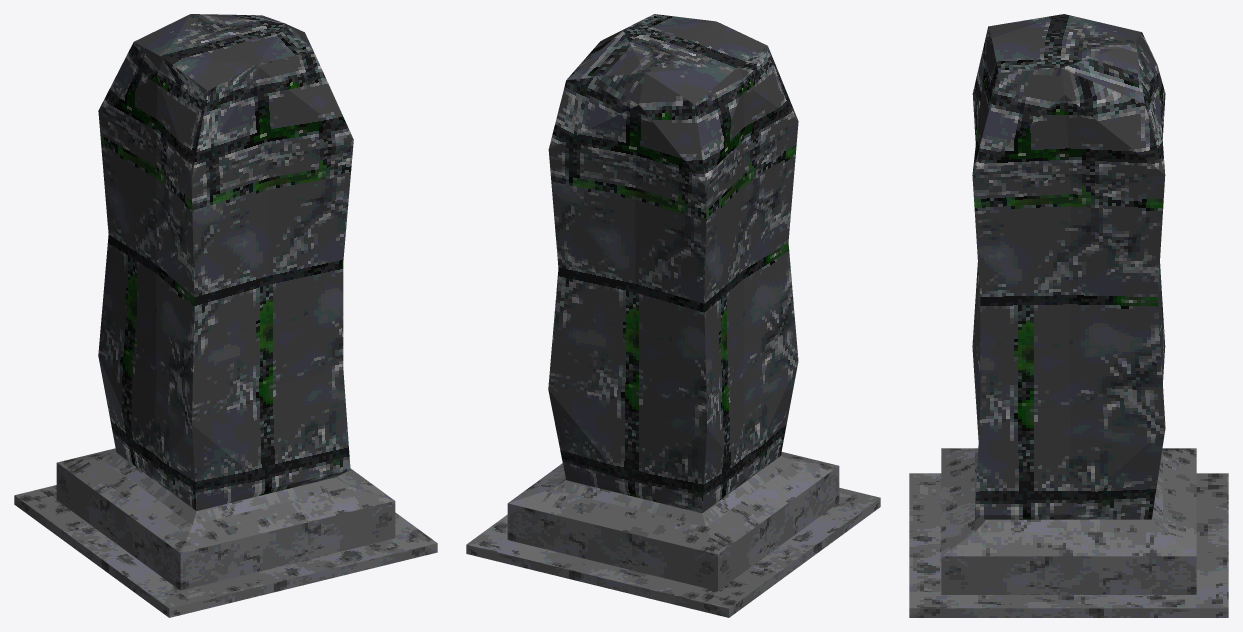
Rendered from pillar_broken_04.gltf.
The picture shows the model from 3 angles, left to right: view 1: azimuth 30°, elevation 25°; view 2: azimuth 150°, elevation 25°; view 3: azimuth 270°, elevation 25°; orthographic projection. The views are drawn at different scales.
Parts seen in each view (by area): view 1: pillar_broken_04; view 2: pillar_broken_04; view 3: pillar_broken_04.
Part boxes in pixels (x1,y1,x2,y2): pillar_broken_04: (14,14,437,617); pillar_broken_04: (466,14,880,617); pillar_broken_04: (909,14,1228,617).
Size of the model in its own units: 1.5 by 2.64 by 1.5.
Materials: 1 (1 with a texture image).
